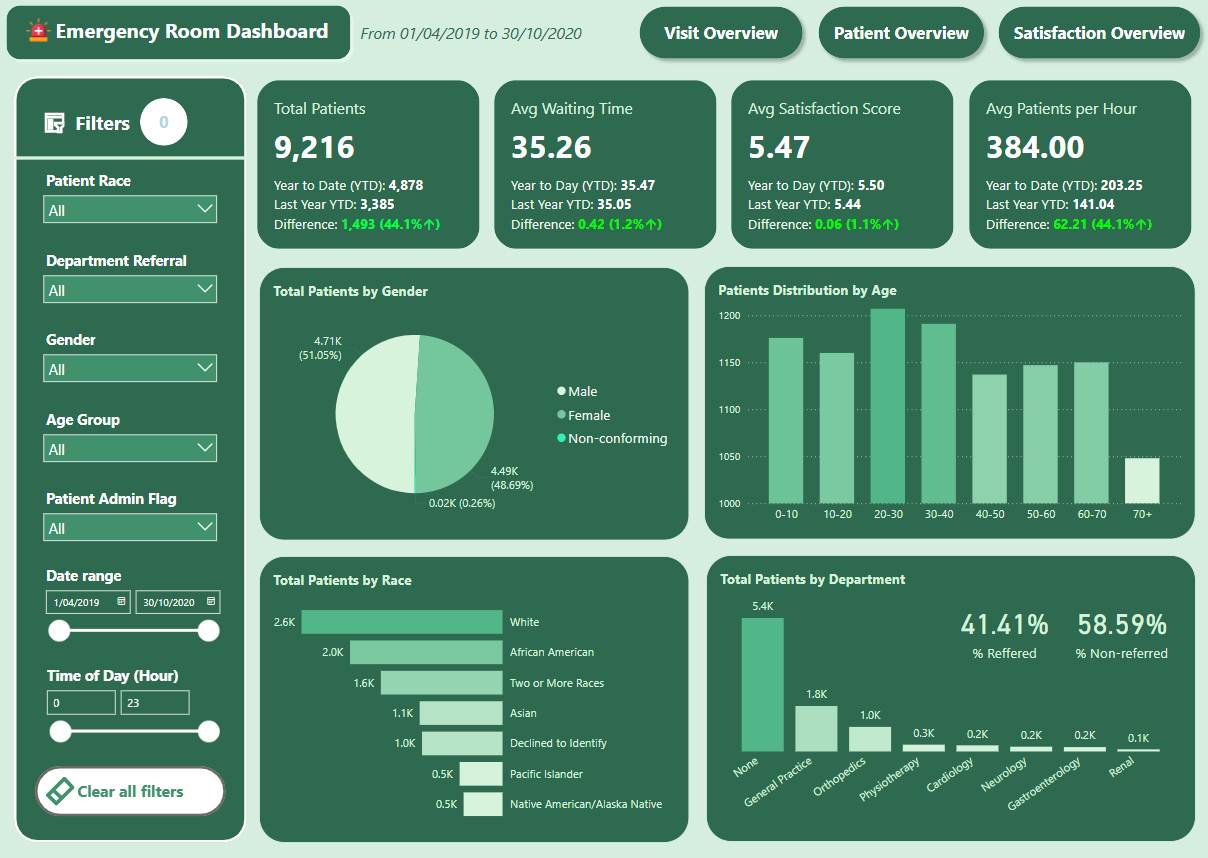

The page's visual inventory and layout, read from the dashboard file:
{"tool":"powerbi","page":{"name":"Patient Overview","canvas":[1440,1024],"ordinal":1},"visuals":[{"type":"shape","box":[16.2,91.7,277.5,913.8],"z":0},{"type":"columnChart","title":"Patients Distribution by Age","fields":{"Y":["Measure Tables.Total Patients"],"Category":["Hospital ER.Age Buckets"]},"box":[839.2,318.4,585.7,325.9],"z":1000,"group":"g5"},{"type":"pieChart","title":"Total Patients by Gender","fields":{"Y":["Measure Tables.Total Patients"],"Category":["Hospital ER.Gender"]},"box":[309,319,513.3,325.6],"z":1000,"group":"g1"},{"type":"columnChart","title":"Total Patients by Department","fields":{"Y":["Measure Tables.Total Patients"],"Category":["Hospital ER.department_referral"]},"box":[841.1,663.3,584.4,342.2],"z":1000,"group":"g4"},{"type":"clusteredBarChart","title":"Total Patients by Race","fields":{"Y":["Measure Tables.Total Patients"],"Category":["Hospital ER.patient_race"]},"box":[308.9,664.4,513.3,342.2],"z":1000,"group":"g3"},{"type":"actionButton","title":"Date Range","box":[425,21.2,321.2,37.5],"z":2000},{"type":"actionButton","box":[85.5,117.5,80,58.8],"z":2000,"group":"g2"},{"type":"slicer","fields":{"Values":["Hospital ER.patient_race"]},"box":[41.8,198.8,227,75],"z":3000},{"type":"actionButton","box":[166.5,117.8,56.9,56.9],"z":4000,"group":"g2"},{"type":"slicer","fields":{"Values":["Hospital ER.department_referral"]},"box":[41.8,294.1,227,75],"z":4000},{"type":"slicer","fields":{"Values":["Hospital ER.Gender"]},"box":[41.8,388.2,227,75],"z":5000},{"type":"slicer","fields":{"Values":["Hospital ER.Age Group"]},"box":[41.8,483.7,227,75],"z":6000},{"type":"slicer","fields":{"Values":["Hospital ER.patient_admin_flag"]},"box":[41.8,578,227,75],"z":7000},{"type":"group","id":"g1","title":"Donut Chart","box":[309,319,513.3,325.6],"z":8000},{"type":"actionButton","title":"Visit Overview","box":[1181.4,0,258.6,80],"z":9000},{"type":"actionButton","box":[0,0,425.6,80],"z":10000},{"type":"slicer","fields":{"Values":["Dim_Date.Date"]},"box":[41.2,670,227.5,162.5],"z":11000},{"type":"actionButton","title":"Visit Overview","box":[753.8,0,212.3,80],"z":12000},{"type":"actionButton","title":"Visit Overview","box":[966.4,0,215.5,80],"z":13000},{"type":"group","id":"g2","title":"Group 1","box":[48.8,117.5,174.5,58.8],"z":14000},{"type":"shape","box":[16.2,176.2,277.5,26.2],"z":15000},{"type":"slicer","title":"Hour","fields":{"Values":["Dim_Time.Hour"]},"box":[42.5,788.8,226.2,155],"z":16000},{"type":"actionButton","box":[41.2,914.1,227.3,59.9],"z":17000},{"type":"group","id":"g3","title":"Donut Chart","box":[308.9,664.4,513.3,342.2],"z":18000},{"type":"card","fields":{"Values":["Measure Tables.% Reffered Patients"]},"box":[1028.9,711.1,196.7,124.4],"z":19000},{"type":"group","id":"g4","title":"Donut Chart","box":[841.1,663.3,584.4,342.2],"z":20000},{"type":"card","fields":{"Values":["Measure Tables.% Reffered Patients"]},"box":[1127.8,690,140,124.4],"z":21000},{"type":"card","fields":{"Values":["Measure Tables.% Un Reffered Patients"]},"box":[1267.8,690,140,124.4],"z":22000},{"type":"group","id":"g5","title":"Donut Chart","box":[839.2,318.4,585.7,325.9],"z":23000},{"type":"cardVisual","title":"Total Patients","fields":{"Data":["Measure Tables.Total Patients"]},"box":[301.6,91.7,275,211.7],"z":24000},{"type":"actionButton","box":[48.8,118.2,62.3,56.8],"z":24000,"group":"g2"},{"type":"cardVisual","title":"Total Patients","fields":{"Data":["Measure Tables.Avg Waiting Time"]},"box":[584.4,91.7,275,211.7],"z":25000},{"type":"cardVisual","title":"Total Patients","fields":{"Data":["Measure Tables.Avg Satisfaction Score"]},"box":[867.2,91.7,275,211.7],"z":26000},{"type":"cardVisual","title":"Total Patients","fields":{"Data":["Measure Tables.Avg Patients per Hour"]},"box":[1150,91.7,275,211.7],"z":27000}]}

Visuals, with their boxes in screenshot pixels (x1, y1, x2, y2), scaled from the page's 1440x1024 canvas onto the 1208x858 screenshot:
shape: x1=14 y1=77 x2=246 y2=842
"Patients Distribution by Age" columnChart: x1=704 y1=267 x2=1195 y2=540
"Total Patients by Gender" pieChart: x1=259 y1=267 x2=690 y2=540
"Total Patients by Department" columnChart: x1=706 y1=556 x2=1196 y2=842
"Total Patients by Race" clusteredBarChart: x1=259 y1=557 x2=690 y2=843
"Date Range" actionButton: x1=357 y1=18 x2=626 y2=49
actionButton: x1=72 y1=98 x2=139 y2=148
slicer - Hospital ER.patient_race: x1=35 y1=167 x2=225 y2=229
actionButton: x1=140 y1=99 x2=187 y2=146
slicer - Hospital ER.department_referral: x1=35 y1=246 x2=225 y2=309
slicer - Hospital ER.Gender: x1=35 y1=325 x2=225 y2=388
slicer - Hospital ER.Age Group: x1=35 y1=405 x2=225 y2=468
slicer - Hospital ER.patient_admin_flag: x1=35 y1=484 x2=225 y2=547
"Donut Chart" group: x1=259 y1=267 x2=690 y2=540
"Visit Overview" actionButton: x1=991 y1=0 x2=1207 y2=67
actionButton: x1=0 y1=0 x2=357 y2=67
slicer - Dim_Date.Date: x1=35 y1=561 x2=225 y2=698
"Visit Overview" actionButton: x1=632 y1=0 x2=810 y2=67
"Visit Overview" actionButton: x1=811 y1=0 x2=991 y2=67
"Group 1" group: x1=41 y1=98 x2=187 y2=148
shape: x1=14 y1=148 x2=246 y2=170
"Hour" slicer: x1=36 y1=661 x2=225 y2=791
actionButton: x1=35 y1=766 x2=225 y2=816
"Donut Chart" group: x1=259 y1=557 x2=690 y2=843
card - Measure Tables.% Reffered Patients: x1=863 y1=596 x2=1028 y2=700
"Donut Chart" group: x1=706 y1=556 x2=1196 y2=842
card - Measure Tables.% Reffered Patients: x1=946 y1=578 x2=1064 y2=682
card - Measure Tables.% Un Reffered Patients: x1=1064 y1=578 x2=1181 y2=682
"Donut Chart" group: x1=704 y1=267 x2=1195 y2=540
"Total Patients" cardVisual: x1=253 y1=77 x2=484 y2=254
actionButton: x1=41 y1=99 x2=93 y2=147
"Total Patients" cardVisual: x1=490 y1=77 x2=721 y2=254
"Total Patients" cardVisual: x1=727 y1=77 x2=958 y2=254
"Total Patients" cardVisual: x1=965 y1=77 x2=1195 y2=254
